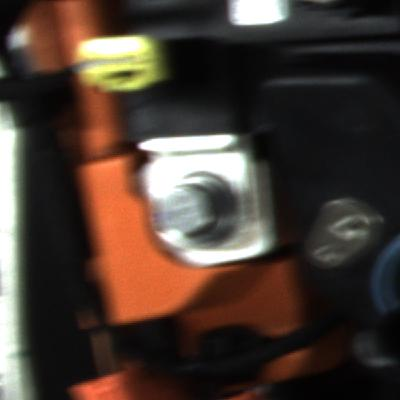nut_b: (151, 173, 249, 256)
